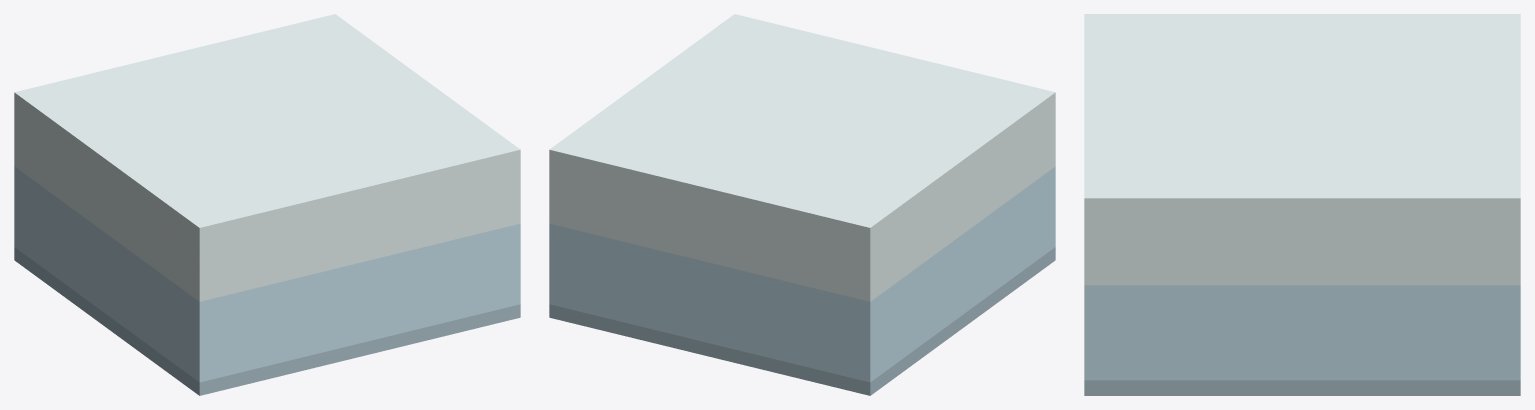
File: Ice_TopHalf.glb
3 views of the same model, side by side, from view 1: azimuth 30°, elevation 25°; view 2: azimuth 150°, elevation 25°; view 3: azimuth 270°, elevation 25° (orthographic). The views are drawn at different scales.
Parts seen in each view (by area): view 1: Ice_TopHalf_body; view 2: Ice_TopHalf_body; view 3: Ice_TopHalf_body.
Boxes of the visible parts, x1,y1,x2,y2 form: Ice_TopHalf_body: (14, 14, 520, 395); Ice_TopHalf_body: (549, 14, 1055, 395); Ice_TopHalf_body: (1084, 14, 1520, 395).
Size of the model in its own units: 1 by 0.5 by 1.
